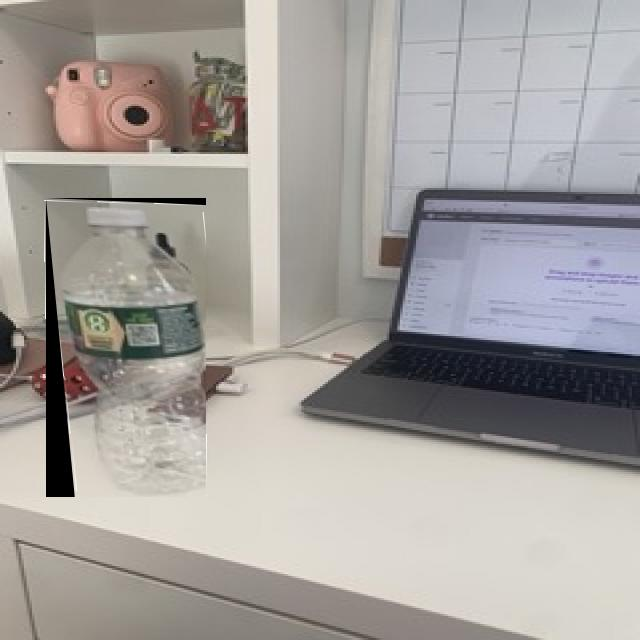water_bottle: (46, 198, 206, 497)
